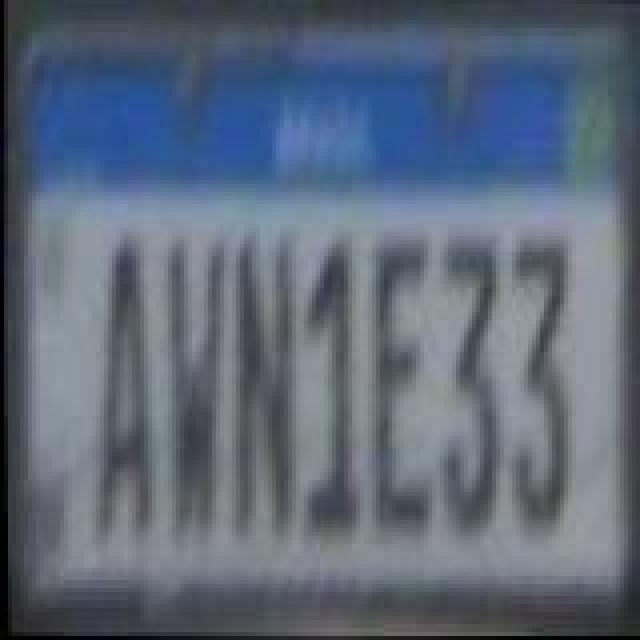1: (298, 234, 362, 530)
3: (430, 238, 502, 546), (504, 230, 572, 538)
A: (88, 240, 156, 536)
E: (366, 232, 438, 528)
N: (226, 230, 298, 546)
W: (160, 234, 228, 542)
